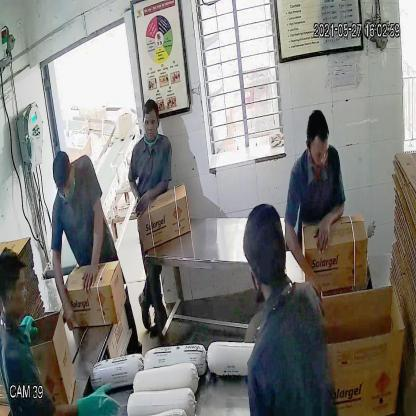no_goggles: (306, 139, 332, 164), (140, 113, 160, 132)
